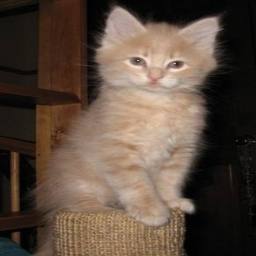cat: (37, 5, 217, 224)
